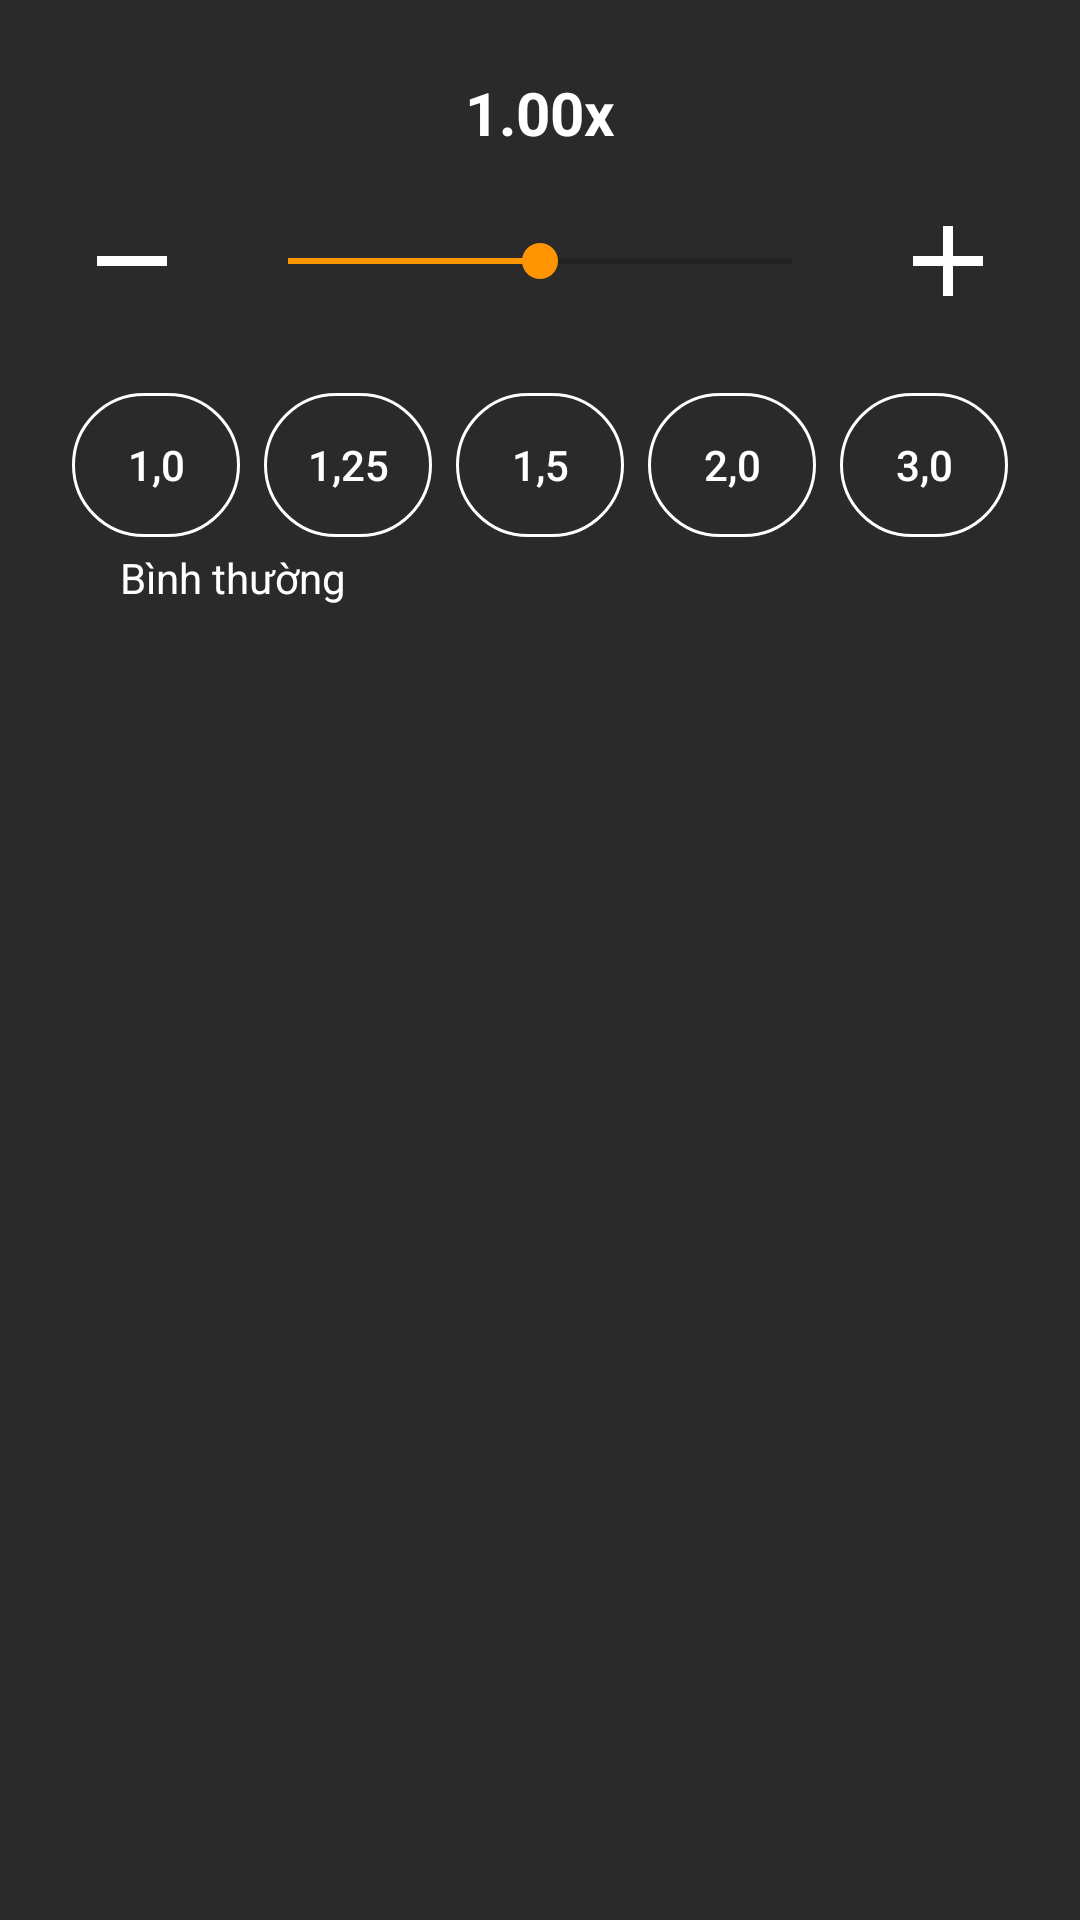

Screen size 1080 x 1920. Icon name, then its center in pixels as (x=x, y=y):
add: (x=948, y=261)
